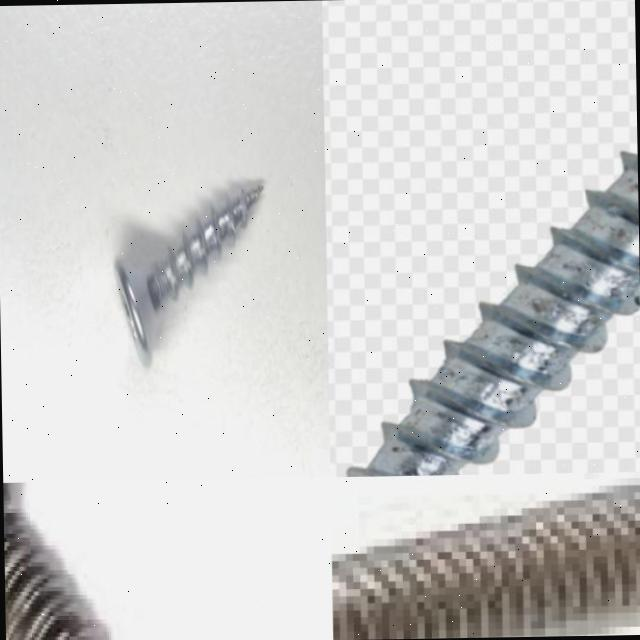Screw: (347, 153, 640, 476), (332, 480, 640, 640), (115, 183, 262, 365), (3, 482, 114, 640)
